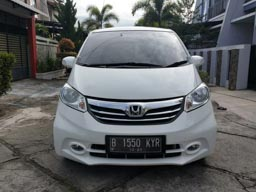plat: (108, 136, 162, 146)
